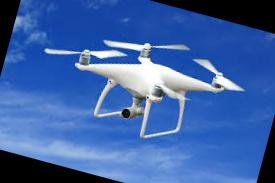drone: (43, 11, 254, 146)
